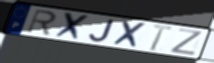J: (87, 18, 117, 43)
R: (25, 9, 58, 37)
T: (148, 23, 174, 52)
X: (52, 11, 92, 43), (111, 19, 148, 50)
Z: (168, 28, 204, 57)
